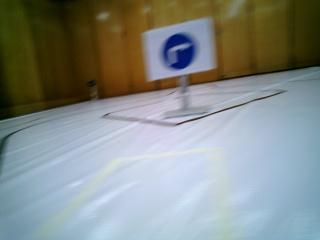right: (142, 28, 214, 74)
